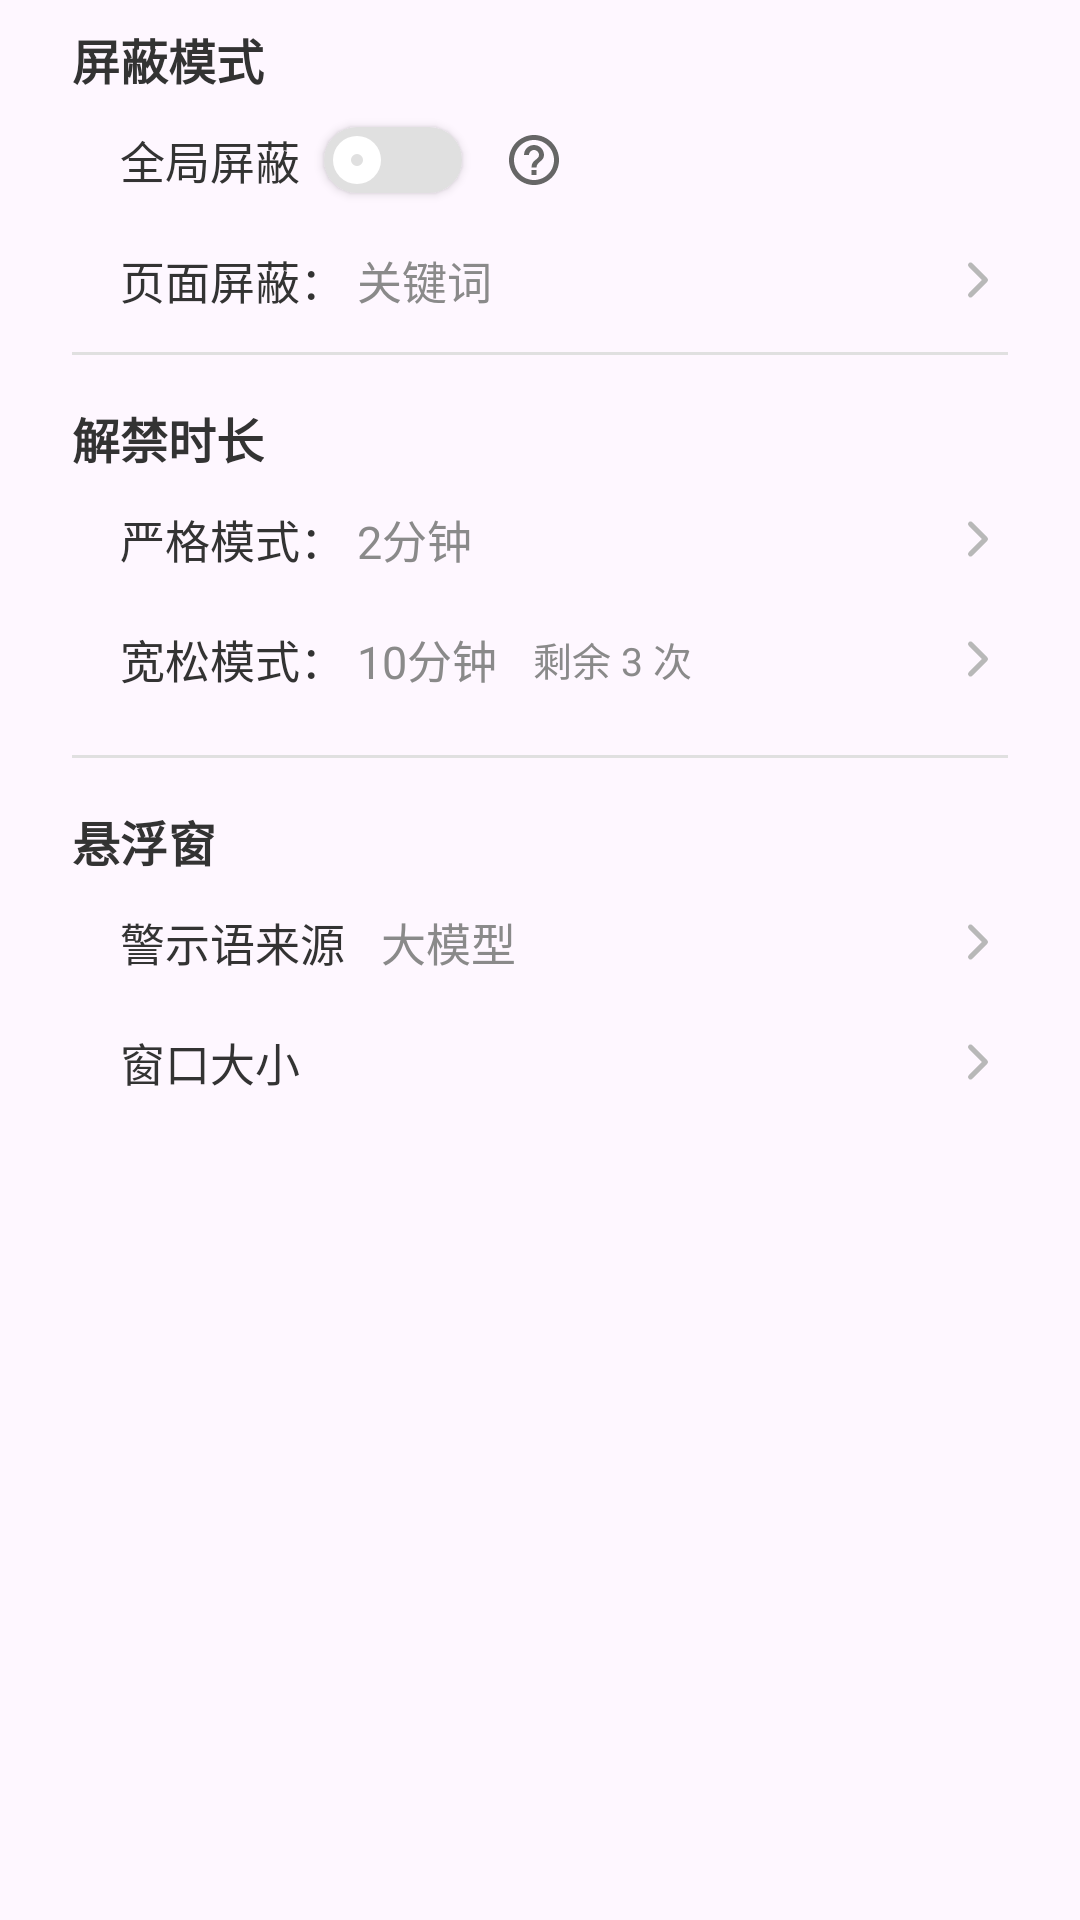

Point at icon controls on the screen. Image size 1080px×1920px, points as point (x, y).
chevron: point (978, 280), point (978, 539), point (978, 659), point (978, 942), point (978, 1062)
全局屏蔽说明: point (534, 160)
